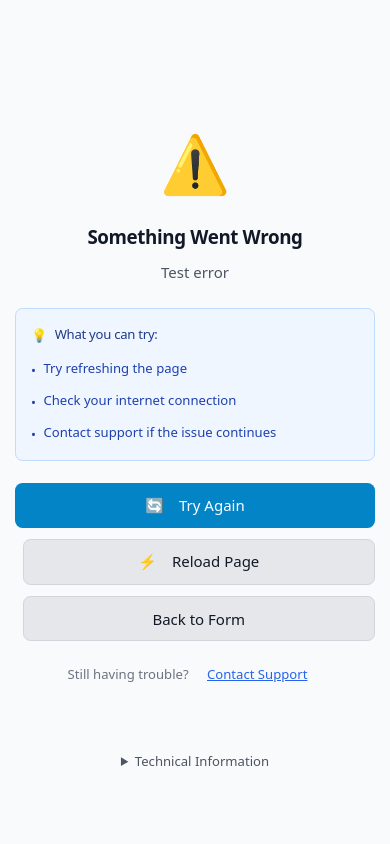
Test: EnhancedErrorBoundary › Secure Error Logging - Requirement 4.5 › should generate unique error ID for tracking
The image size is (390, 844).
Note: Open technical information
Click the heading "Technical Information" at (202, 761), box [135,752,269,770]
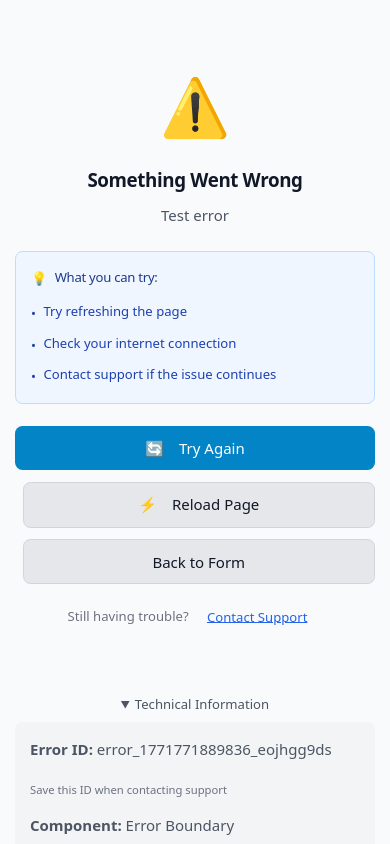
Now the text "Error ID:" is shown, box [30,739,93,759]
